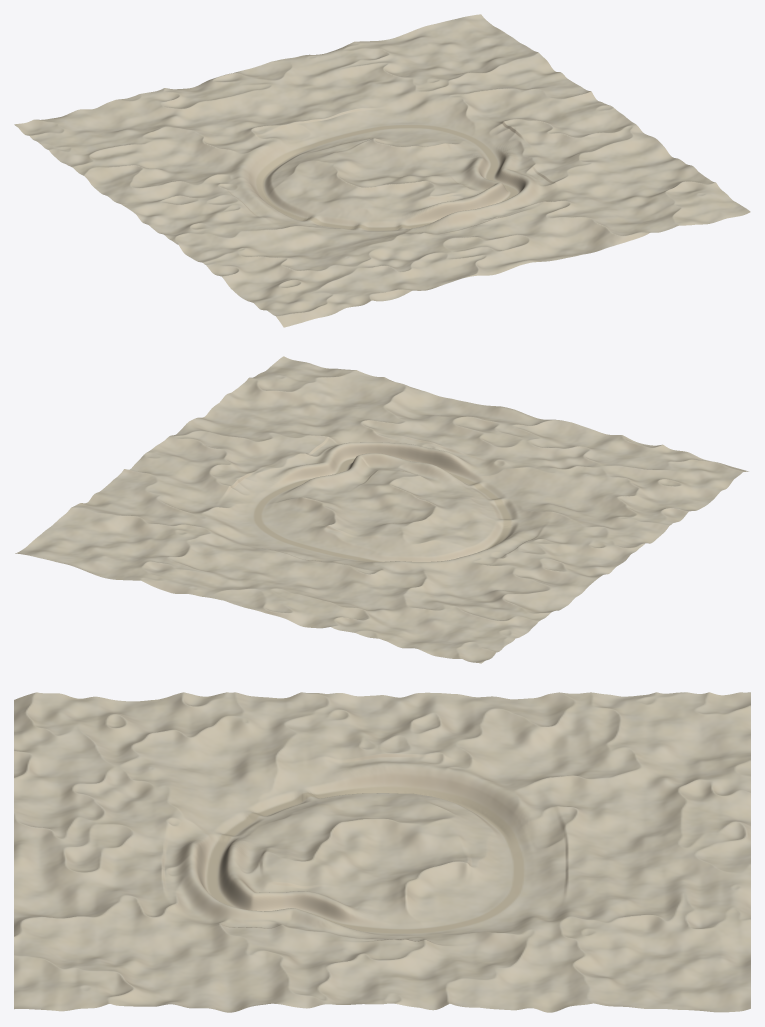
File: dune_terrain_hires.glb
3 views of the same model, one above another, from view 1: azimuth 30°, elevation 25°; view 2: azimuth 150°, elevation 25°; view 3: azimuth 270°, elevation 25° (orthographic). The views are drawn at different scales.
Visible parts, largest first — view 1: DuneTerrainHiRes; view 2: DuneTerrainHiRes; view 3: DuneTerrainHiRes.
Part boxes in pixels (x1=…): DuneTerrainHiRes: x1=14, y1=14, x2=750, y2=327; DuneTerrainHiRes: x1=15, y1=356, x2=748, y2=663; DuneTerrainHiRes: x1=14, y1=692, x2=750, y2=1012.
Size of the model in its own units: 1560 by 53.51 by 1560.
